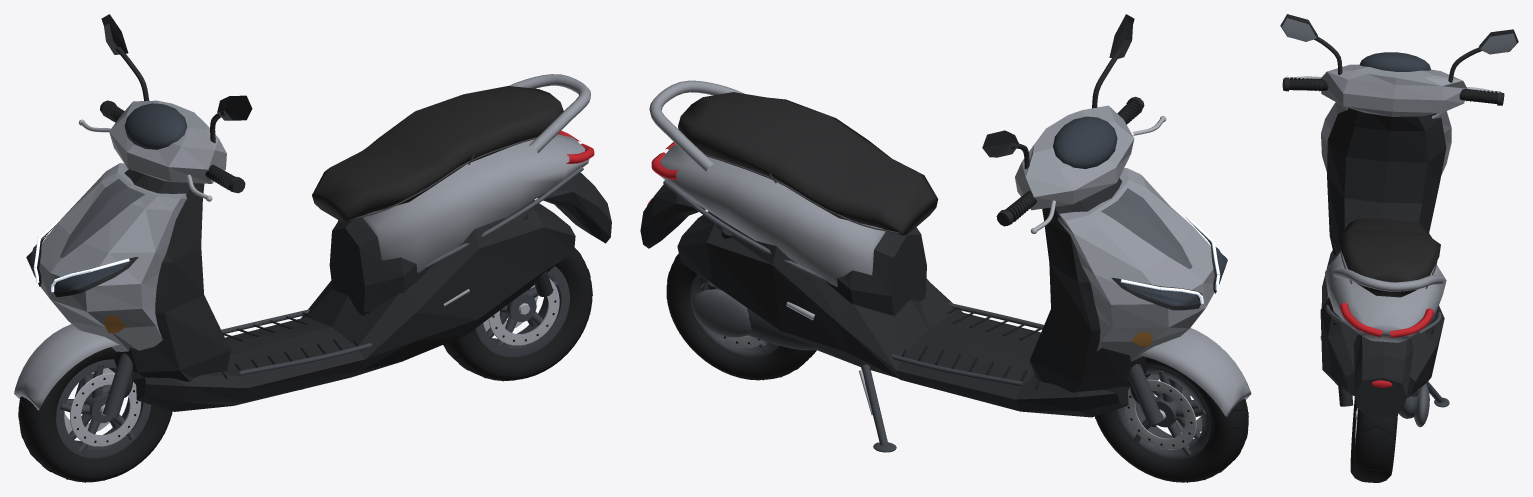
File: scooter_parked.glb
The picture shows the model from 3 angles, left to right: view 1: azimuth 30°, elevation 25°; view 2: azimuth 150°, elevation 25°; view 3: azimuth 270°, elevation 25°; orthographic projection. The views are drawn at different scales.
Visible parts, largest first — view 1: Molded charcoal polymer, Satin silver bodywork, Black saddle vinyl, Tire and grip rubber, Charcoal cast alloy, Brushed hardware, Smoked lamp housings, Graphite silver accents; view 2: Molded charcoal polymer, Satin silver bodywork, Black saddle vinyl, Tire and grip rubber, Charcoal cast alloy, Graphite silver accents, Smoked lamp housings, Brushed hardware, White light guides; view 3: Molded charcoal polymer, Satin silver bodywork, Black saddle vinyl, Tire and grip rubber, Tinted mirror glass, Smoked lamp housings, Red rear lenses, Graphite silver accents, Charcoal cast alloy, Tread recesses.
Part boxes in pixels (x1,y1,x2,y2): Molded charcoal polymer: [33, 14, 611, 411]; Satin silver bodywork: [14, 74, 590, 410]; Black saddle vinyl: [312, 86, 563, 222]; Tire and grip rubber: [18, 103, 592, 482]; Charcoal cast alloy: [56, 266, 569, 458]; Brushed hardware: [64, 119, 559, 446]; Smoked lamp housings: [26, 103, 187, 291]; Graphite silver accents: [60, 166, 583, 268]; Molded charcoal polymer: [640, 14, 1221, 417]; Satin silver bodywork: [649, 80, 1251, 416]; Black saddle vinyl: [678, 92, 938, 235]; Tire and grip rubber: [666, 100, 1248, 482]; Charcoal cast alloy: [689, 274, 1210, 460]; Graphite silver accents: [663, 180, 1192, 337]; Smoked lamp housings: [1053, 116, 1227, 306]; Brushed hardware: [713, 116, 1202, 449]; White light guides: [1121, 219, 1220, 303]; Molded charcoal polymer: [1280, 14, 1518, 417]; Satin silver bodywork: [1320, 64, 1467, 342]; Black saddle vinyl: [1337, 218, 1440, 297]; Tire and grip rubber: [1289, 79, 1498, 482]; Tinted mirror glass: [1282, 18, 1516, 54]; Smoked lamp housings: [1359, 52, 1430, 71]; Red rear lenses: [1339, 302, 1433, 387]; Graphite silver accents: [1325, 304, 1441, 427]; Charcoal cast alloy: [1326, 291, 1449, 418]; Tread recesses: [1355, 414, 1393, 482].
Size of the model in its own units: 1.84 by 1.2 by 0.7855.
